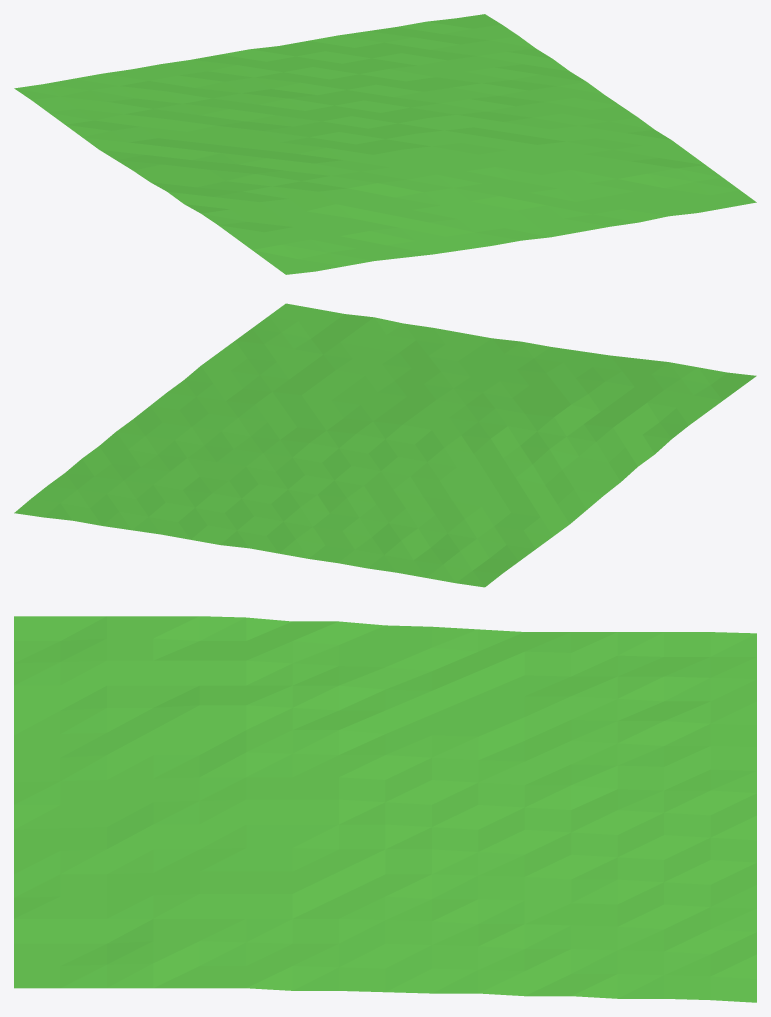
File: natura_world_191.gltf
3 views of the same model, one above another, from view 1: azimuth 30°, elevation 25°; view 2: azimuth 150°, elevation 25°; view 3: azimuth 270°, elevation 25° (orthographic). The views are drawn at different scales.
Visible parts, largest first — view 1: natura_world.191; view 2: natura_world.191; view 3: natura_world.191.
Part boxes in pixels (x1,y1,x2,y2): natura_world.191: (14,14,756,274); natura_world.191: (14,303,756,587); natura_world.191: (14,616,756,1002).
Size of the model in its own units: 0.125 by 0.0135 by 0.125.
